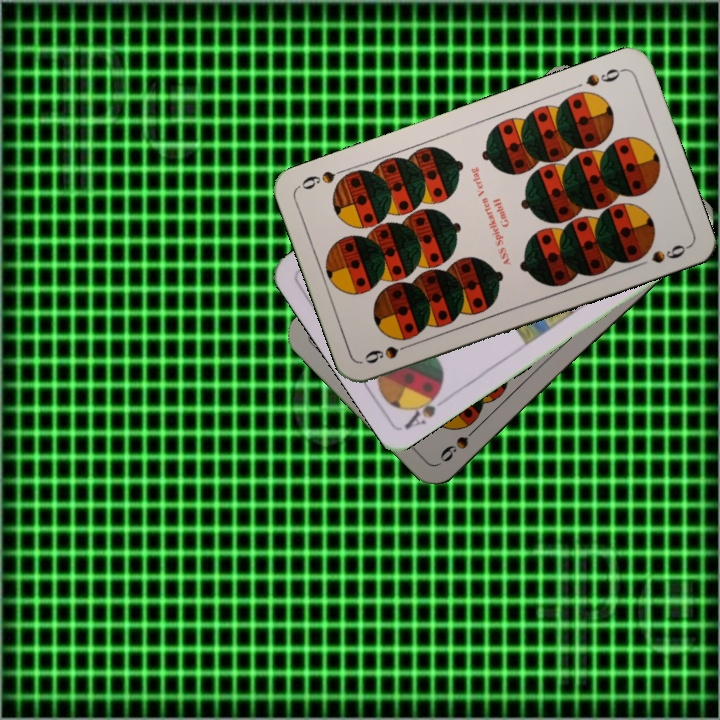S9: (435, 420, 483, 465), (360, 338, 417, 366), (582, 64, 627, 89)
SA: (400, 383, 445, 432)
